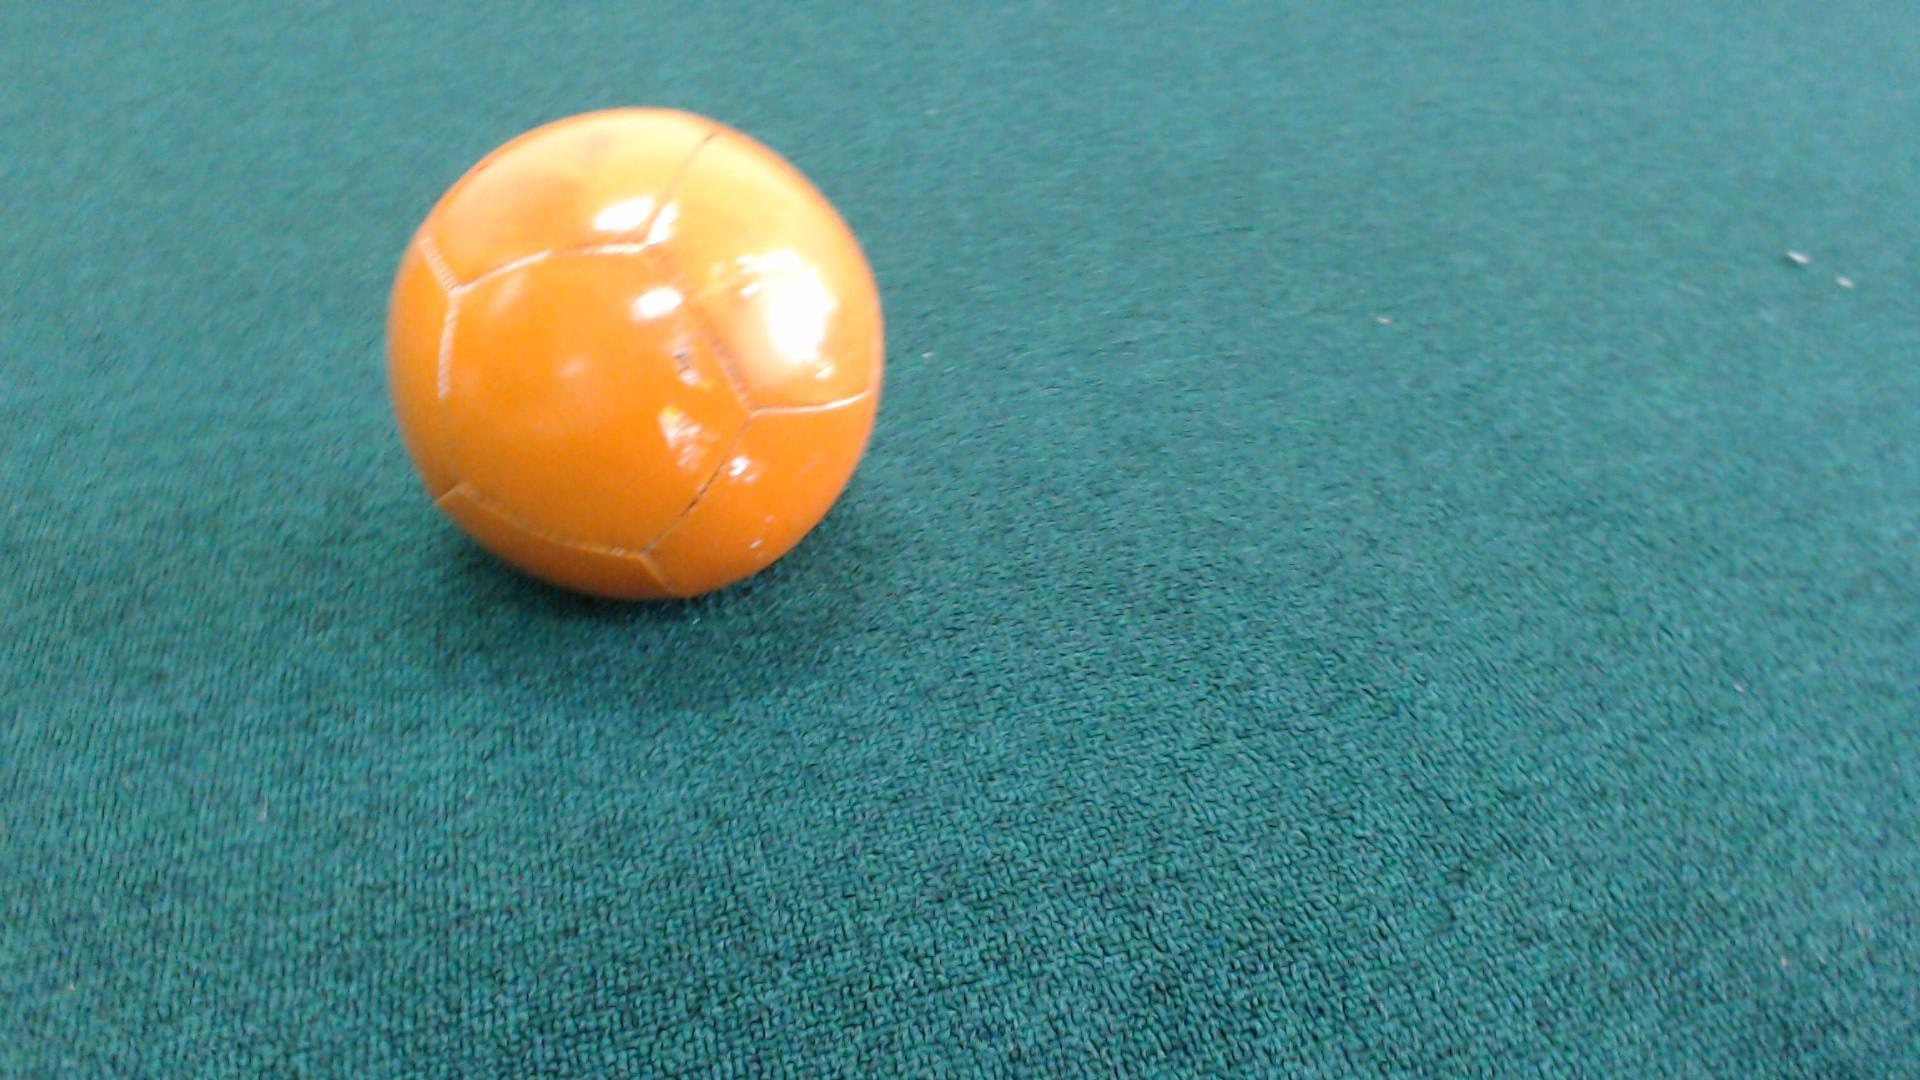bola: (342, 73, 949, 637)
